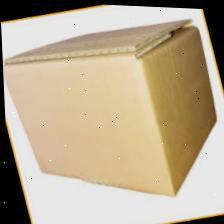cardboard: (0, 0, 224, 221)
